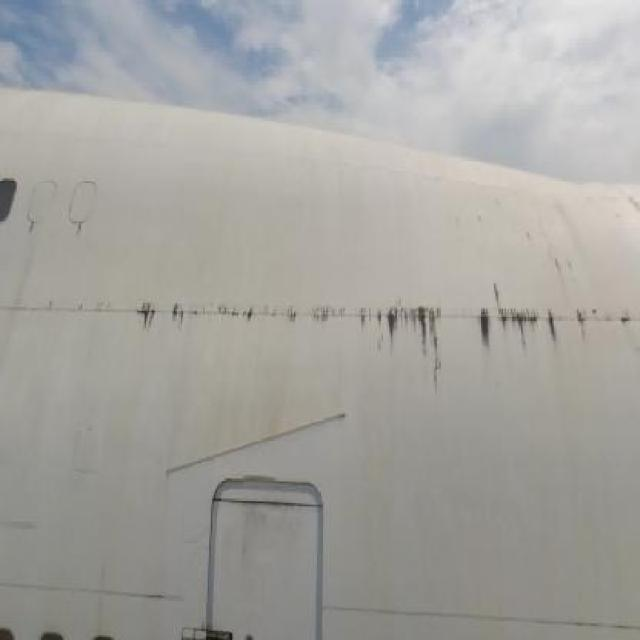Rust: (129, 276, 640, 402), (521, 196, 593, 296), (73, 220, 84, 243), (29, 218, 37, 237)
Scartch: (240, 504, 314, 571), (2, 507, 46, 538)
